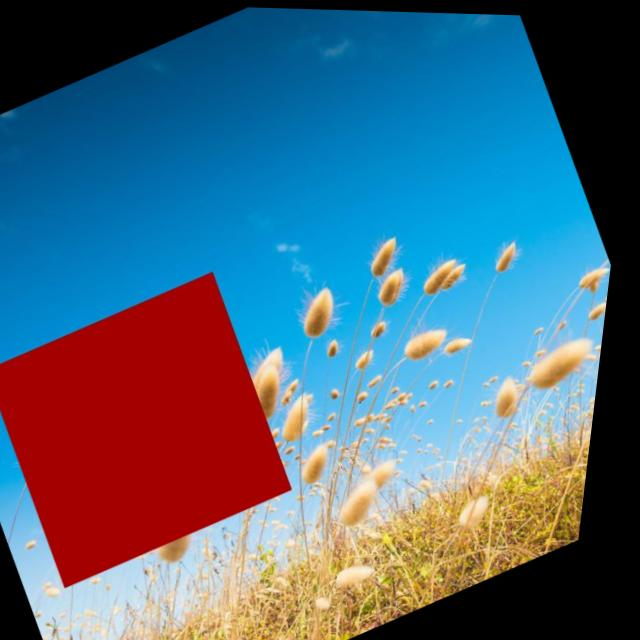RedSquare: (0, 251, 341, 606)
